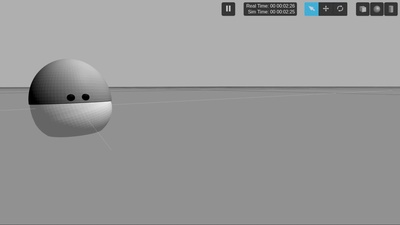mira_robot: (29, 59, 113, 137)
